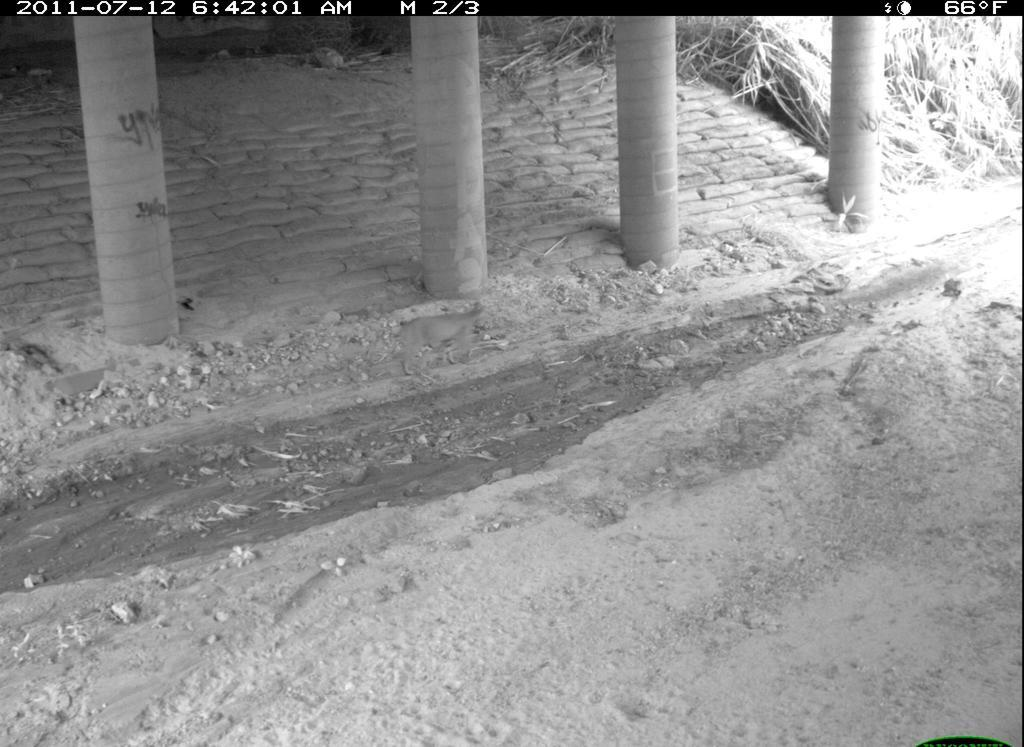bobcat: (767, 599, 989, 747)
